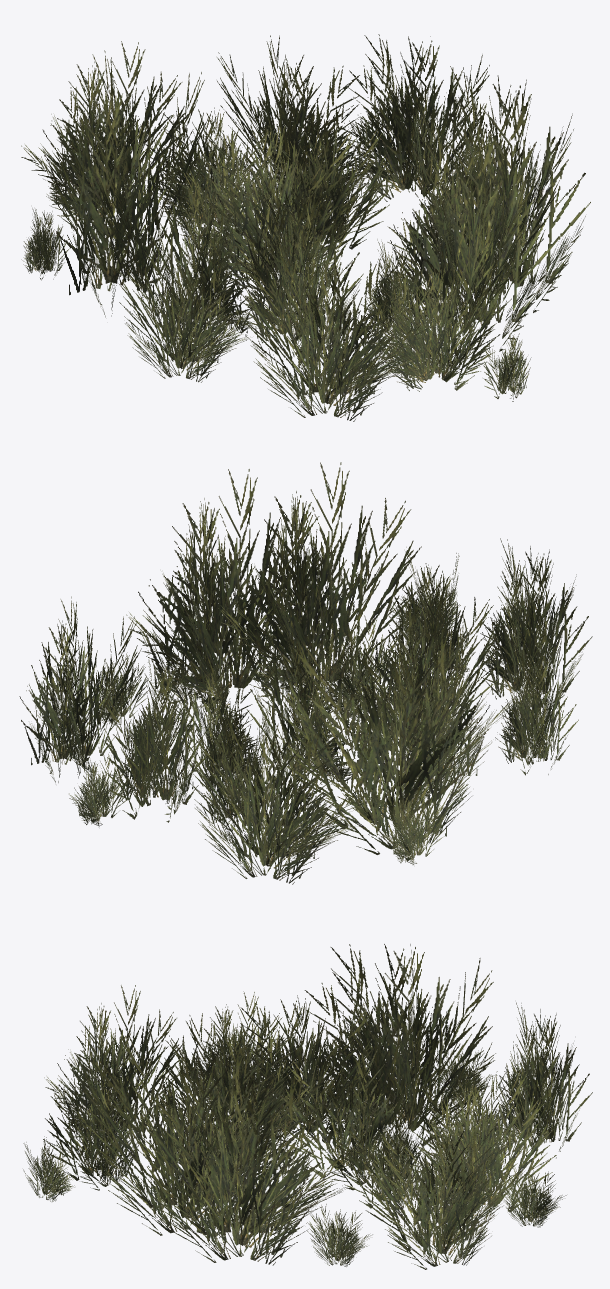
File: gbush01.glb
3 renders of one model, top to bottom at view 1: azimuth 30°, elevation 25°; view 2: azimuth 150°, elevation 25°; view 3: azimuth 270°, elevation 25°, orthographic. The views are drawn at different scales.
Visible parts, largest first — view 1: _gbush01; view 2: _gbush01; view 3: _gbush01.
Part boxes in pixels (x1,y1,x2,y2): _gbush01: (21,34,590,421); _gbush01: (19,462,592,884); _gbush01: (23,944,592,1269).
Size of the model in its own units: 9.38 by 4.77 by 11.56.
Materials: 1 (1 with a texture image).
